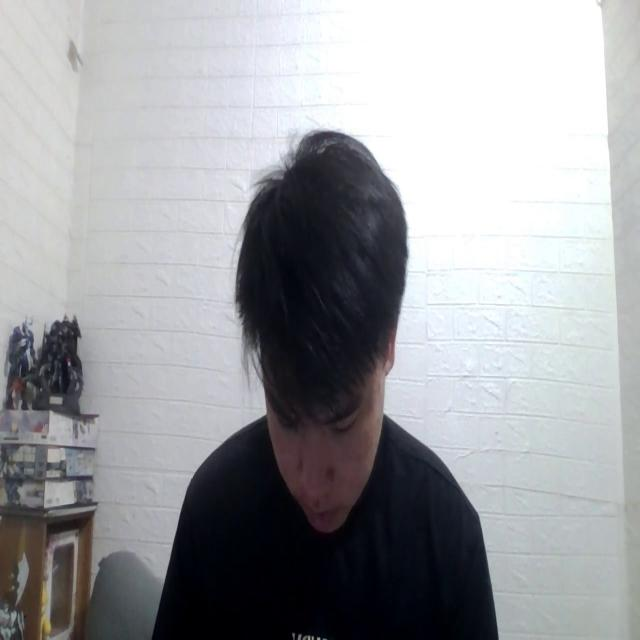student: (148, 124, 498, 640)
